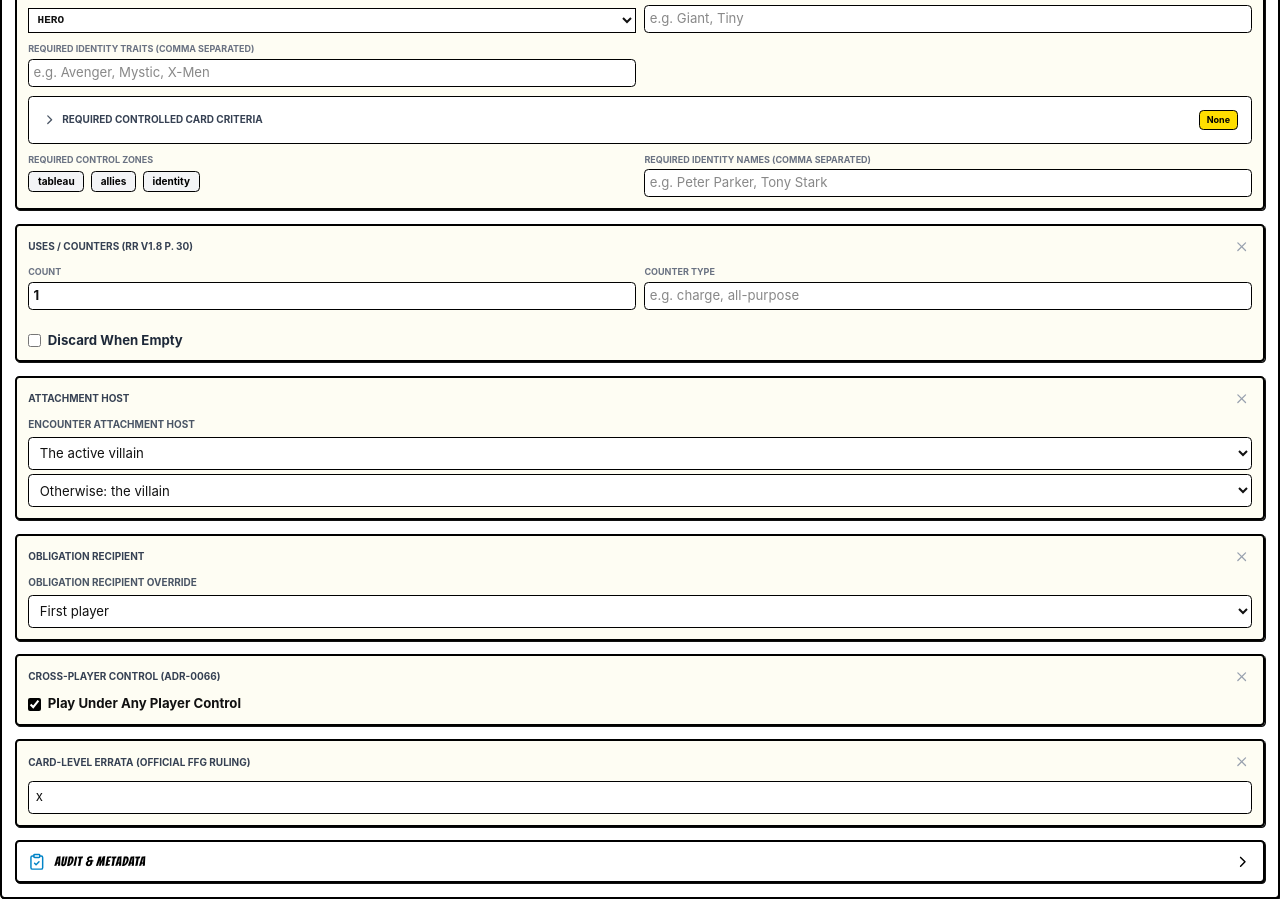
Test: CardAttributesSection card-level chip bar › the remove control of the errata section deletes the key
(page scrolled)
Click the button named "Remove Card-Level Errata (Official FFG Ruling)": (1242, 762) top-left (1232, 752), bottom-right (1252, 772)
(page scrolled)
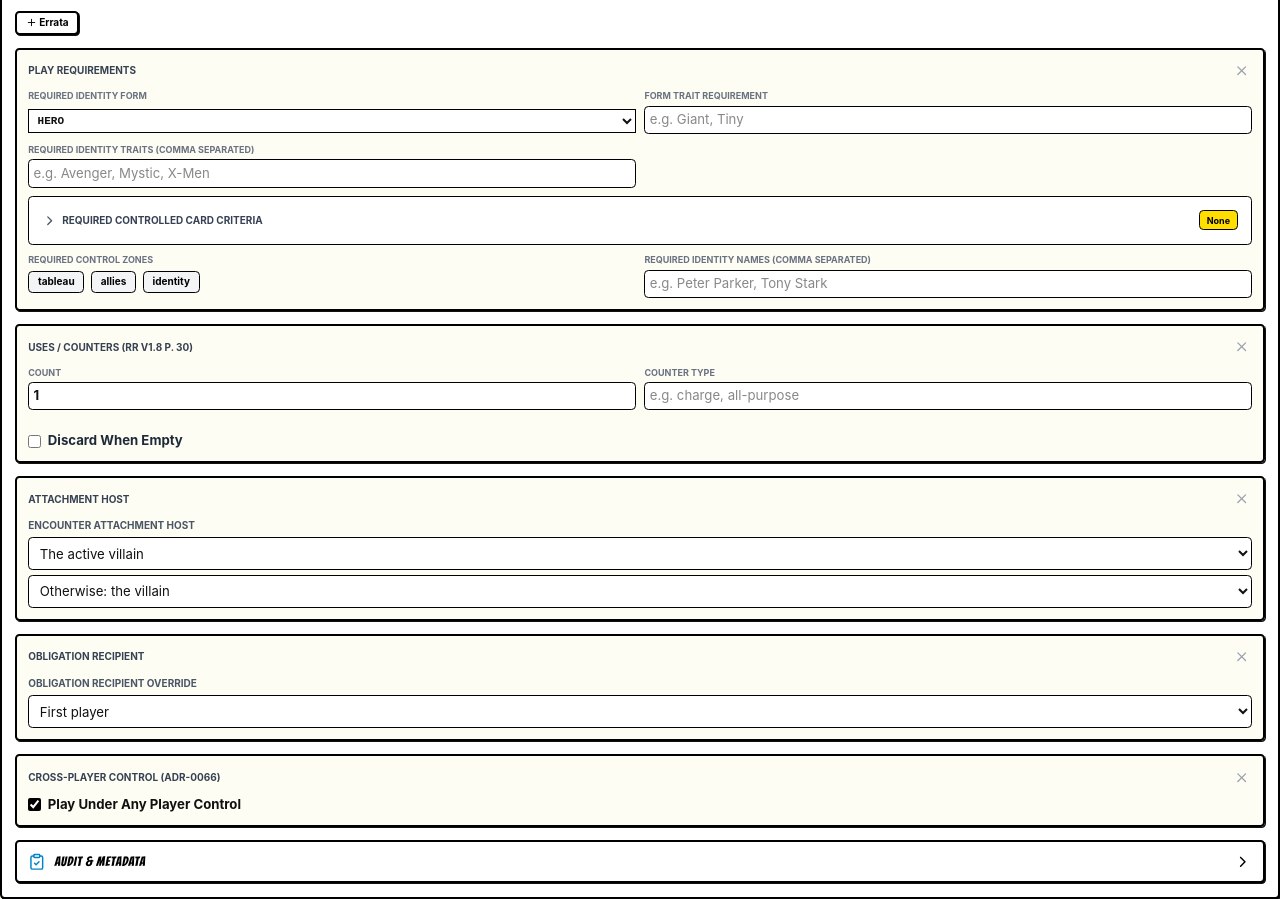
Check: the button with test id "card-chip-add-errata" is shown, box top-left (15, 11), bottom-right (80, 35)
Check: the element with test id "card-section-errata" is gone
